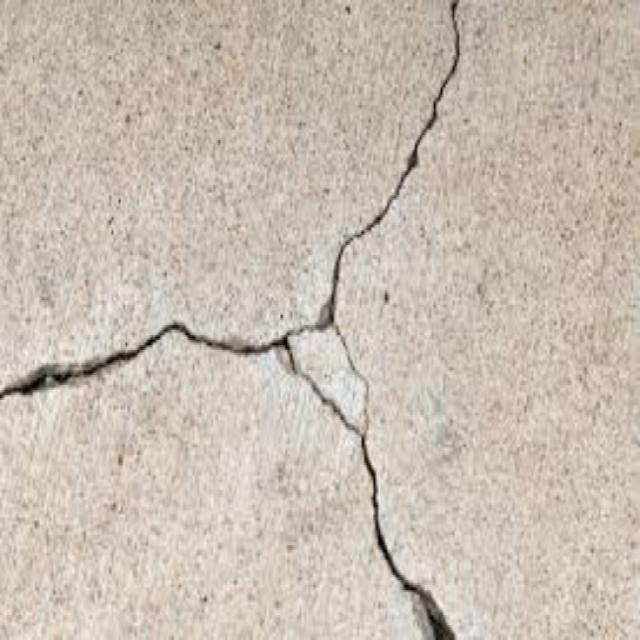crack: (327, 0, 470, 298), (1, 300, 279, 412), (361, 443, 458, 638), (282, 299, 376, 441)
